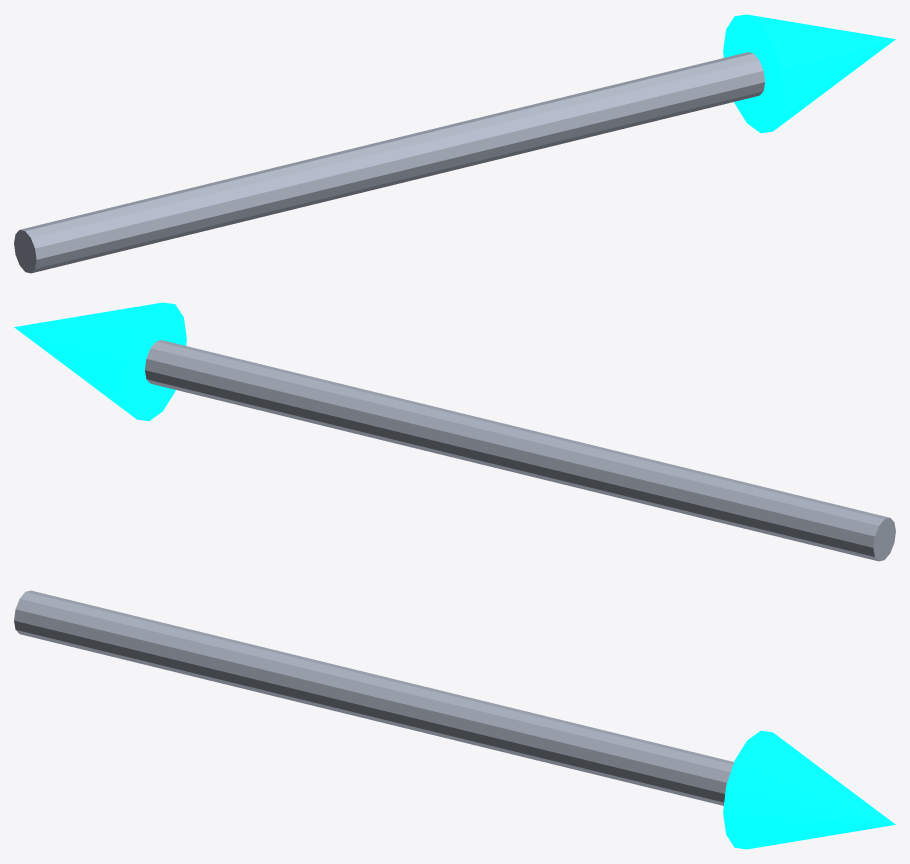
Rendered from wire.glb.
3 views of the same model, one above another, from view 1: azimuth 30°, elevation 25°; view 2: azimuth 150°, elevation 25°; view 3: azimuth 330°, elevation 25° (orthographic).
Visible parts, largest first — view 1: WireShaft, WireTip; view 2: WireShaft, WireTip; view 3: WireShaft, WireTip.
Boxes of the visible parts, x1,y1,x2,y2 form: WireShaft: (14, 52, 764, 273); WireTip: (723, 14, 895, 133); WireShaft: (145, 340, 895, 561); WireTip: (14, 302, 186, 421); WireShaft: (14, 590, 733, 805); WireTip: (723, 730, 895, 849).
Size of the model in its own units: 0.98 by 0.117 by 0.12.
